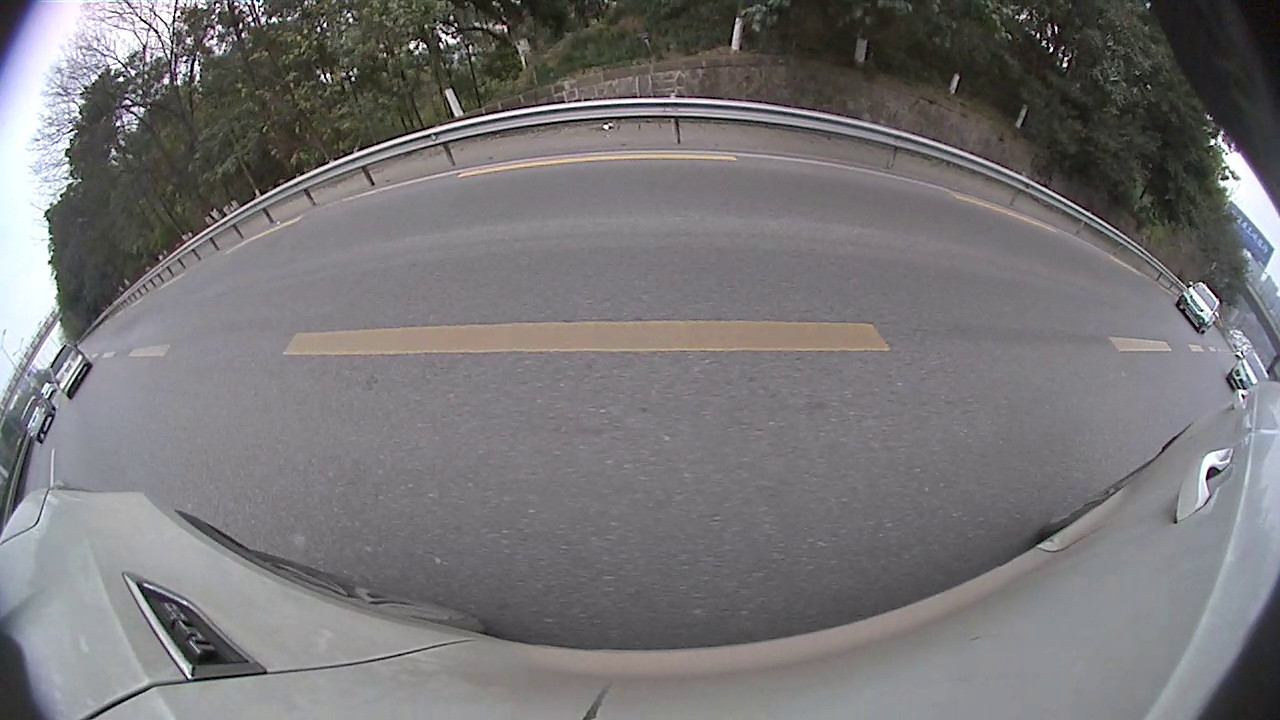bus: (1166, 183, 1279, 406), (777, 110, 981, 201)
car: (847, 131, 1192, 343), (1, 299, 169, 537), (597, 117, 775, 243), (441, 152, 555, 222), (554, 152, 600, 192)
front: (23, 414, 141, 539), (853, 195, 890, 245), (790, 172, 801, 193), (548, 181, 556, 204)
rear: (1008, 245, 1087, 342), (1232, 347, 1277, 410), (519, 184, 528, 213)
